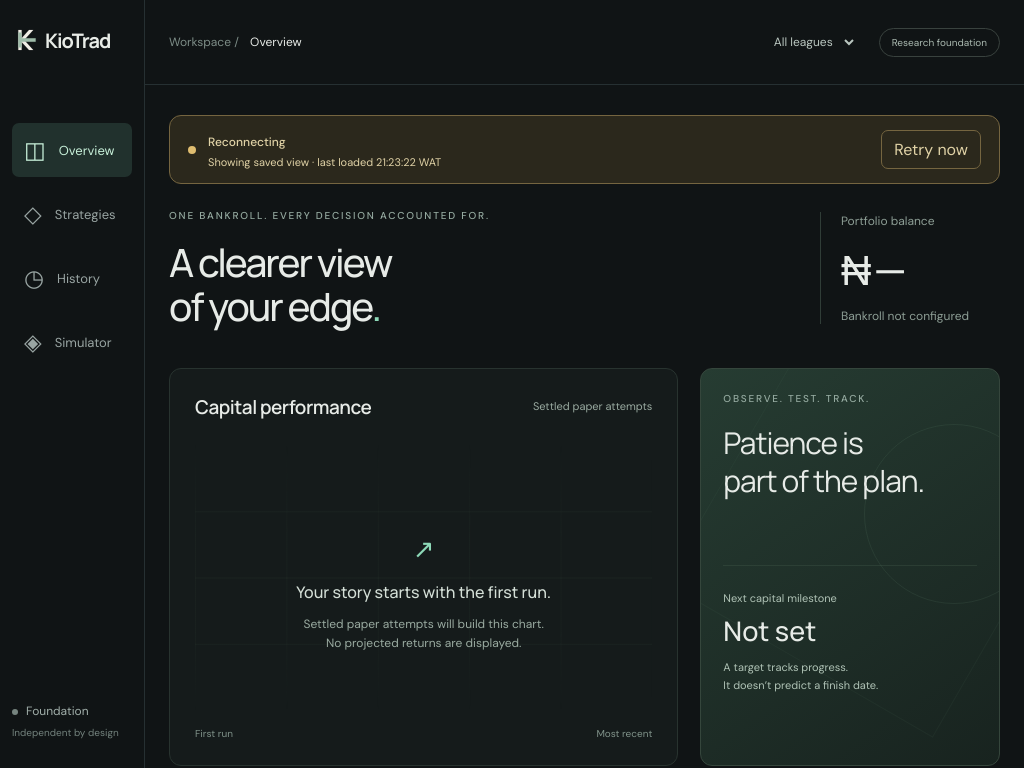
Scenario: retains the last dashboard through failed refreshes and clears the banner after recovery
The width and height of the screenshot is (1024, 768).
Check: the text "Reconnecting" is shown, box x1=208 y1=134 x2=286 y2=150
Check: the text "Showing saved view · last loaded 21:23:22 WAT" is shown, box x1=208 y1=155 x2=441 y2=169
Click the button "Retry now" at (931, 150), box x1=881 y1=130 x2=981 y2=169
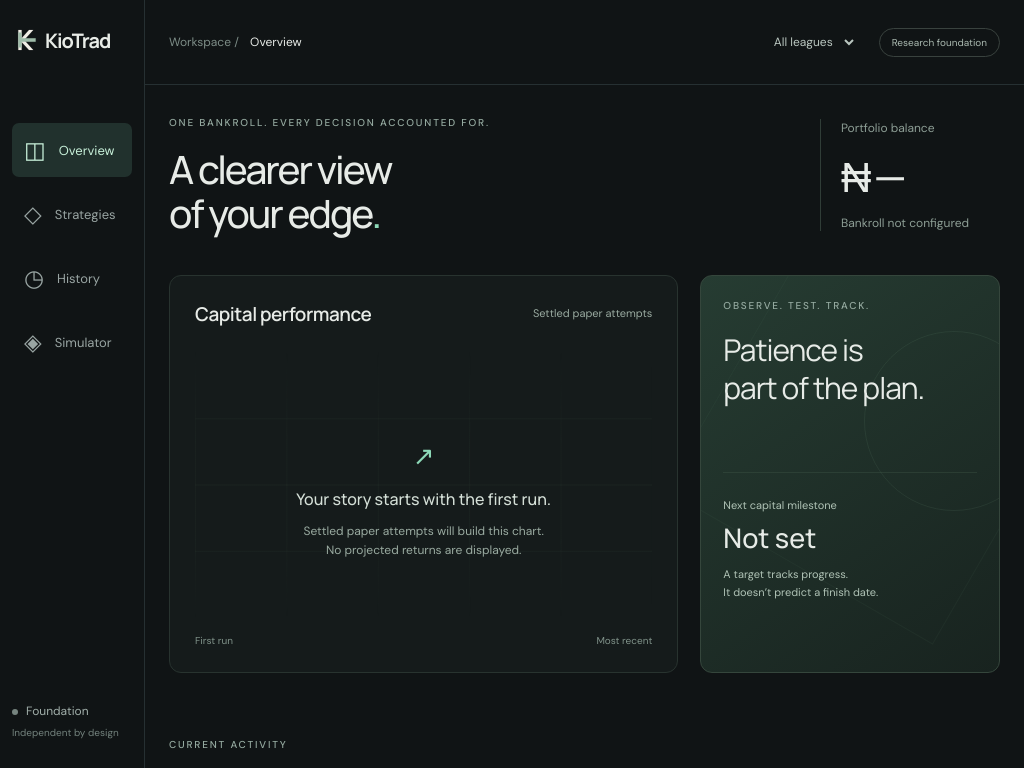
Check: the text "Reconnecting" is gone
